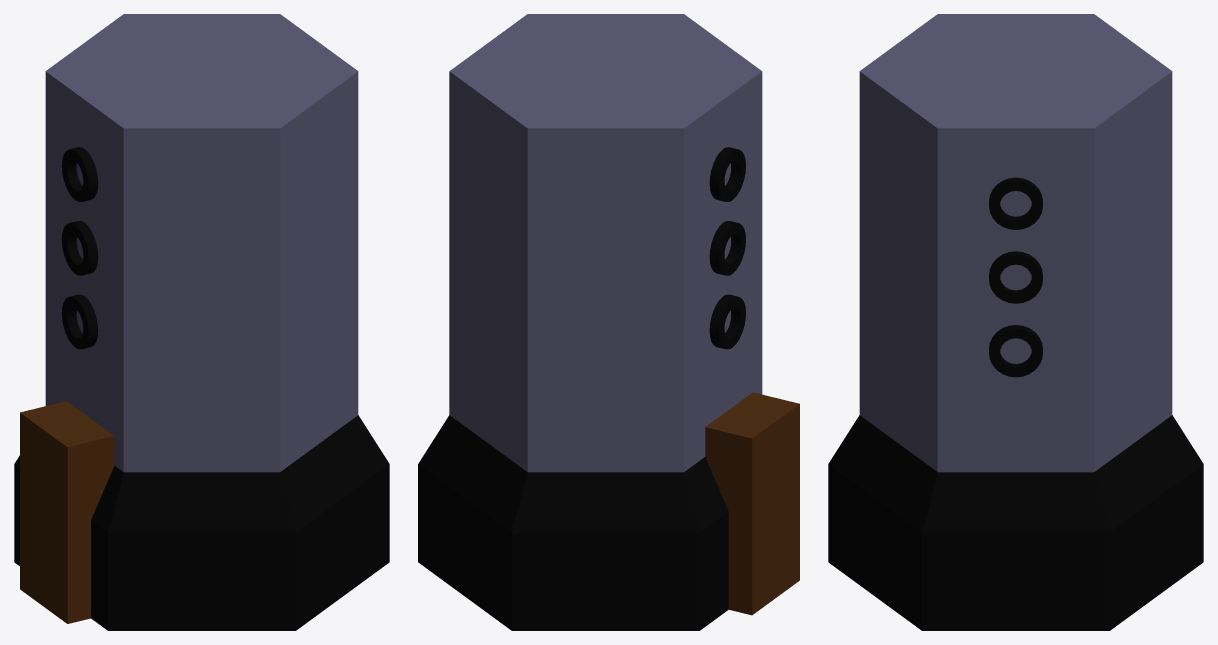
The model's file is TowerBase.fbx.
3 views of the same model, side by side, from view 1: azimuth 30°, elevation 25°; view 2: azimuth 150°, elevation 25°; view 3: azimuth 270°, elevation 25° (orthographic).
Visible parts, largest first — view 1: mergedBlocks; view 2: mergedBlocks; view 3: mergedBlocks.
Part boxes in pixels (left/top/right/bottom): mergedBlocks: left=14, top=14, right=389, bottom=630; mergedBlocks: left=418, top=14, right=799, bottom=630; mergedBlocks: left=828, top=14, right=1203, bottom=630.
Bounding box in the file's own units: 6.5 × 10 × 6.93.
